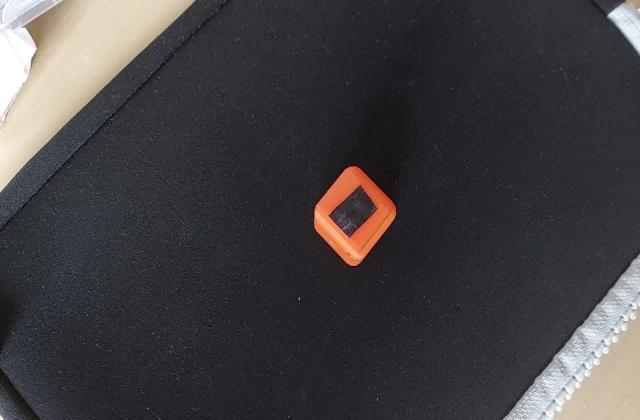black: (330, 184, 374, 240)
sticker: (312, 160, 400, 268)
